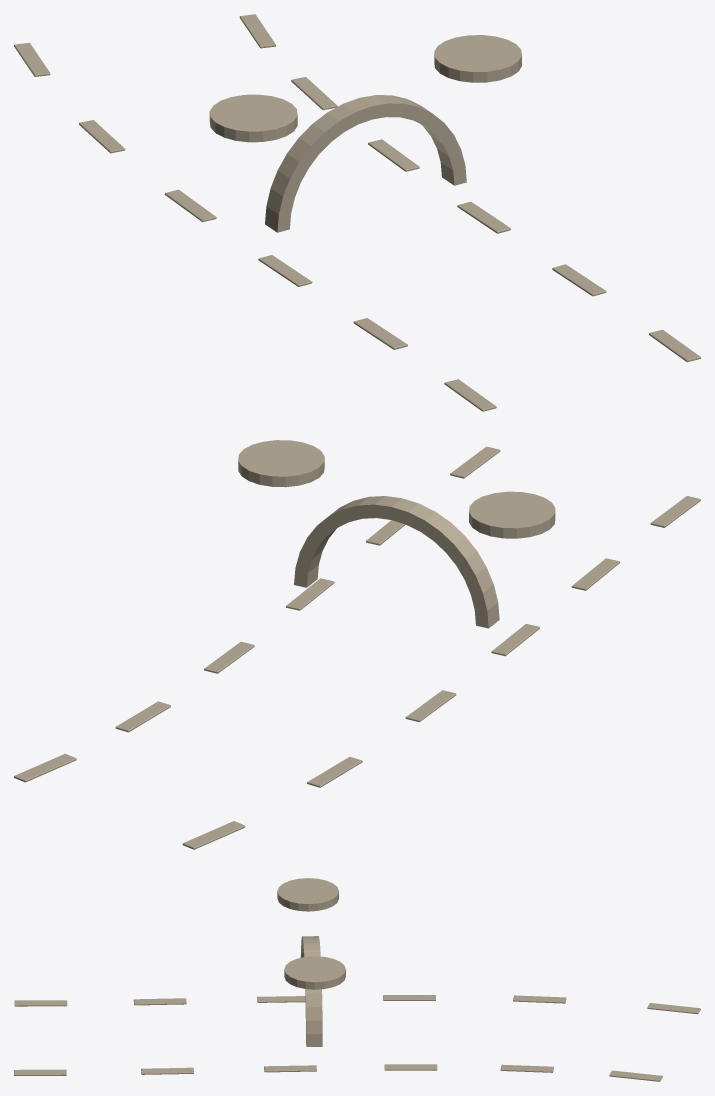
The model's file is Sector1_SandstoneTrim_1.fbx.
The picture shows the model from 3 angles, top to bottom: view 1: azimuth 30°, elevation 25°; view 2: azimuth 150°, elevation 25°; view 3: azimuth 270°, elevation 25°; orthographic projection. The views are drawn at different scales.
Visible parts, largest first — view 1: Sector1_SandstoneTrim_1; view 2: Sector1_SandstoneTrim_1; view 3: Sector1_SandstoneTrim_1.
Part boxes in pixels (box(x1,y1,x2,y2)): Sector1_SandstoneTrim_1: box(14, 14, 700, 411); Sector1_SandstoneTrim_1: box(14, 440, 700, 849); Sector1_SandstoneTrim_1: box(14, 878, 700, 1081).
Size of the model in its own units: 11994 by 5606 by 33422.
